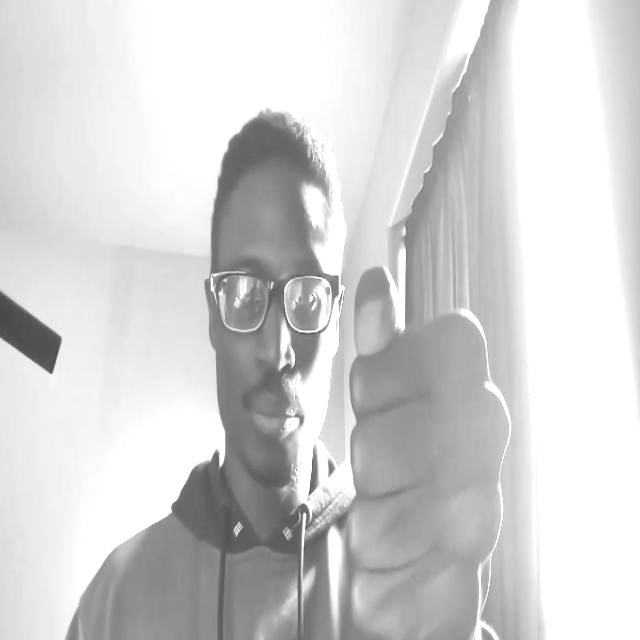Rock: (346, 265, 512, 640)
